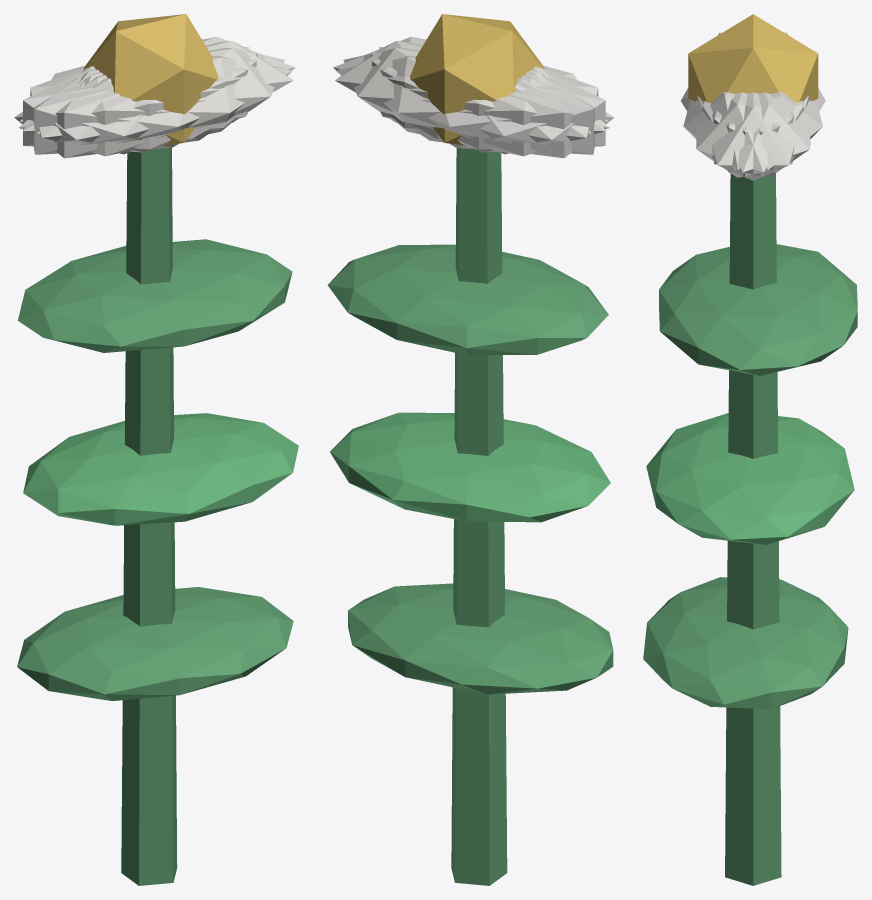
File: galactia-striata.glb
3 views of the same model, side by side, from view 1: azimuth 30°, elevation 25°; view 2: azimuth 150°, elevation 25°; view 3: azimuth 270°, elevation 25° (orthographic).
Parts seen in each view (by area): view 1: stem, leaf0, leaf1, leaf2, center, petal1, petal6, petal2, petal5, petal7, petal0, petal4 (+2 smaller); view 2: stem, leaf2, leaf1, leaf0, center, petal8, petal3, petal7, petal4, petal2, petal0, petal5 (+2 smaller); view 3: stem, leaf1, leaf2, leaf0, center, petal0, petal4, petal5, petal1, petal8.
Part boxes in pixels (x1,y1,x2,y2): stem: (121, 148, 177, 885); leaf0: (17, 587, 293, 700); leaf1: (23, 413, 298, 525); leaf2: (18, 239, 292, 352); center: (83, 14, 218, 145); petal1: (18, 55, 292, 156); petal6: (14, 68, 212, 158); petal2: (33, 47, 249, 154); petal5: (37, 48, 284, 149); petal7: (23, 52, 257, 152); petal0: (83, 41, 293, 139); petal4: (20, 36, 295, 131); stem: (451, 148, 507, 885); leaf2: (327, 244, 608, 355); leaf1: (330, 412, 610, 522); leaf0: (348, 583, 613, 694); center: (410, 14, 544, 145); petal8: (335, 55, 609, 156); petal3: (416, 68, 614, 158); petal7: (379, 47, 594, 154); petal4: (343, 48, 591, 149); petal2: (371, 52, 605, 152); petal0: (335, 41, 545, 139); petal5: (333, 36, 608, 131); stem: (725, 173, 781, 885); leaf1: (646, 413, 854, 544); leaf2: (659, 244, 857, 375); leaf0: (643, 577, 848, 709); center: (688, 14, 818, 102); petal0: (697, 92, 808, 180); petal4: (702, 92, 810, 177); petal5: (696, 92, 803, 177); petal1: (683, 92, 794, 169); petal8: (712, 92, 822, 169).
Size of the model in its own units: 0.1452 by 0.4379 by 0.1011.
